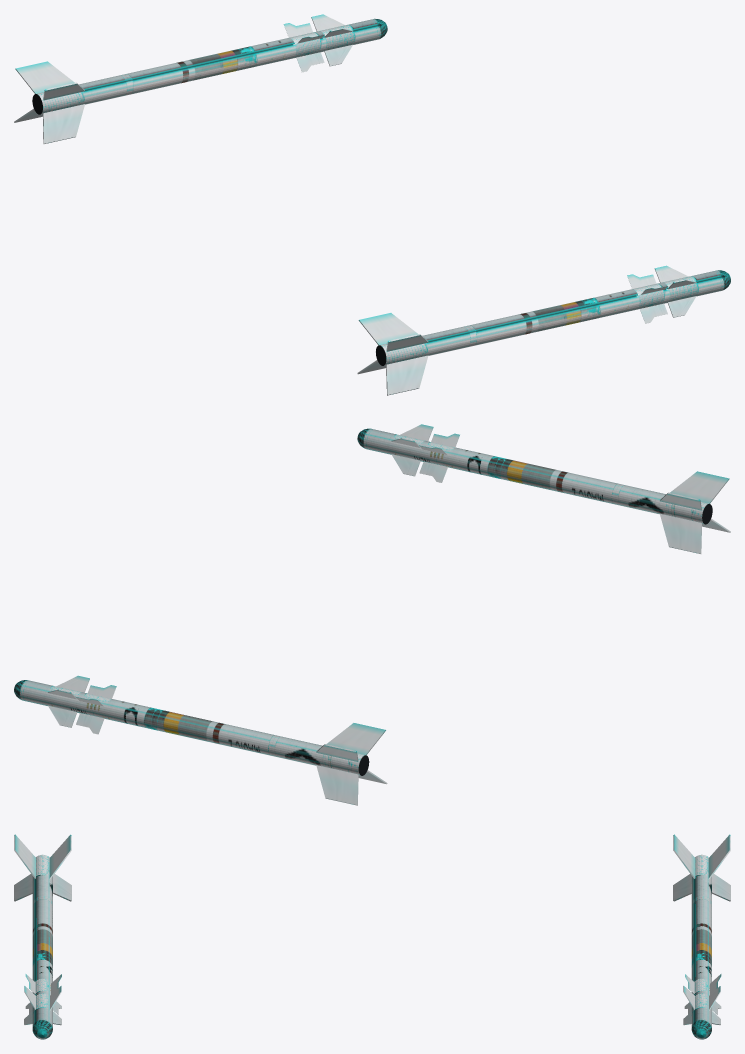
Rendered from rafaler55038.glb.
The picture shows the model from 3 angles, top to bottom: view 1: azimuth 30°, elevation 25°; view 2: azimuth 150°, elevation 25°; view 3: azimuth 270°, elevation 25°; orthographic projection. The views are drawn at different scales.
Visible parts, largest first — view 1: 立方体.014, 立方体.013; view 2: 立方体.013, 立方体.014; view 3: 立方体.013, 立方体.014.
Boxes of the visible parts, left/top/right/bottom form: 立方体.014: left=14, top=14, right=387, bottom=143; 立方体.013: left=357, top=265, right=730, bottom=395; 立方体.013: left=357, top=424, right=730, bottom=553; 立方体.014: left=14, top=675, right=387, bottom=805; 立方体.013: left=14, top=834, right=71, bottom=1039; 立方体.014: left=673, top=834, right=730, bottom=1039.
Bounding box in the file's own units: 3.19 × 0.4688 × 5.76.
Materials: 2 (2 with a texture image).
